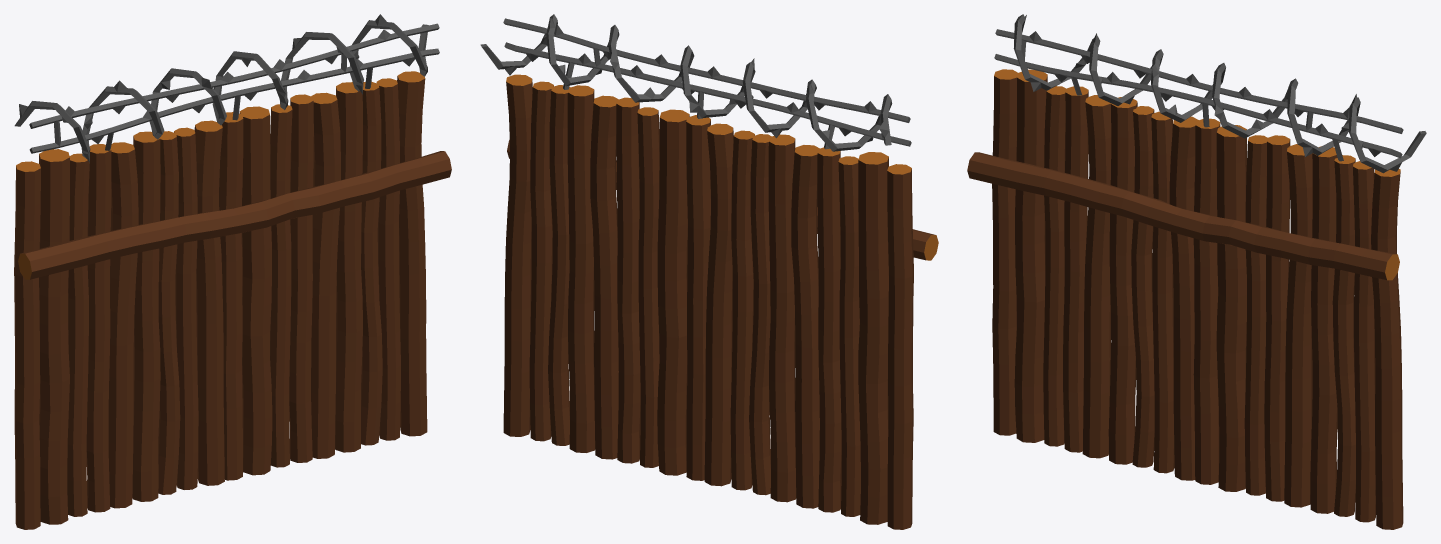
Rendered from wall.fbx.
The picture shows the model from 3 angles, left to right: view 1: azimuth 30°, elevation 25°; view 2: azimuth 150°, elevation 25°; view 3: azimuth 330°, elevation 25°; orthographic projection.
Visible parts, largest first — view 1: Cube, Cylinder; view 2: Cube, Cylinder; view 3: Cube, Cylinder.
Part boxes in pixels (box(x1,y1,x2,y2)): Cube: box(14, 71, 451, 529); Cylinder: box(14, 14, 439, 162); Cube: box(503, 74, 938, 529); Cylinder: box(480, 14, 911, 151); Cube: box(967, 69, 1403, 529); Cylinder: box(994, 14, 1426, 173).
Size of the model in its own units: 455 by 431 by 72.26.
